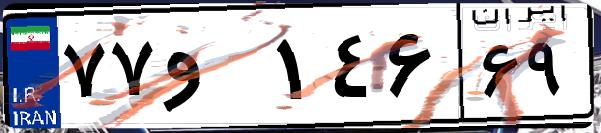1: (270, 28, 330, 110)
4: (330, 28, 385, 110)
6: (385, 28, 445, 110), (475, 38, 525, 113)
7: (57, 26, 110, 100), (110, 28, 158, 98)
9: (525, 38, 570, 115)
و: (158, 20, 270, 120)
